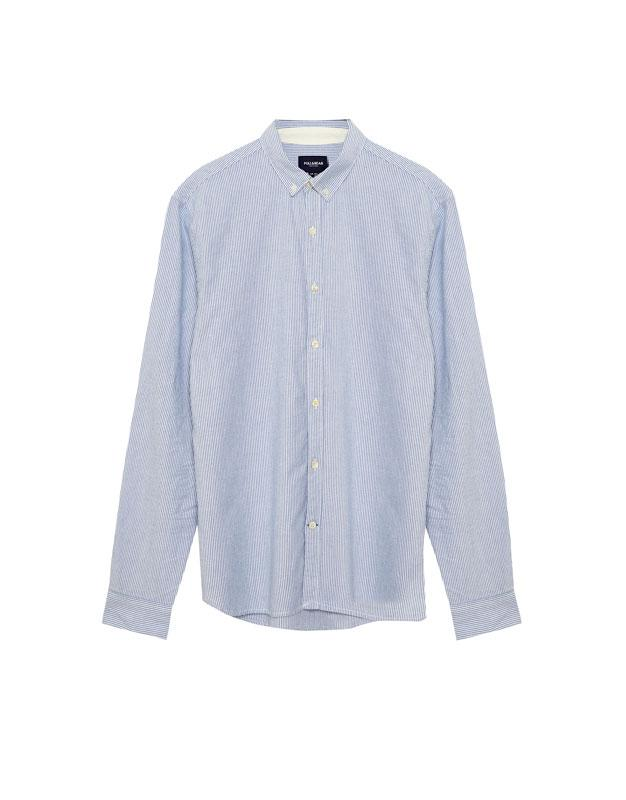teeshirt: (94, 116, 545, 657)
